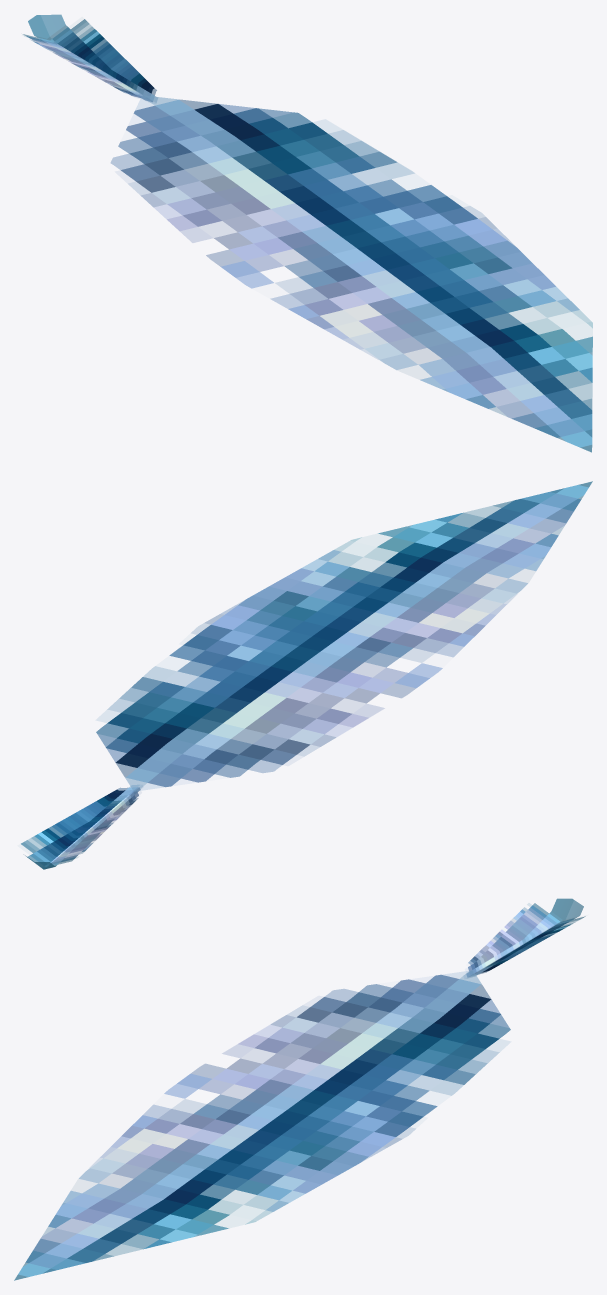
File: Quest04.glb
3 renders of one model, top to bottom at view 1: azimuth 30°, elevation 25°; view 2: azimuth 150°, elevation 25°; view 3: azimuth 330°, elevation 25°, orthographic. The views are drawn at different scales.
Parts seen in each view (by area): view 1: model_Quest04; view 2: model_Quest04; view 3: model_Quest04.
Part boxes in pixels (x1=…): model_Quest04: x1=23, y1=14, x2=592, y2=452; model_Quest04: x1=21, y1=481, x2=592, y2=869; model_Quest04: x1=14, y1=898, x2=585, y2=1280.
Bounding box in the file's own units: 0.1956 × 0.0121 × 0.7801.
Materials: 1 (1 with a texture image).
